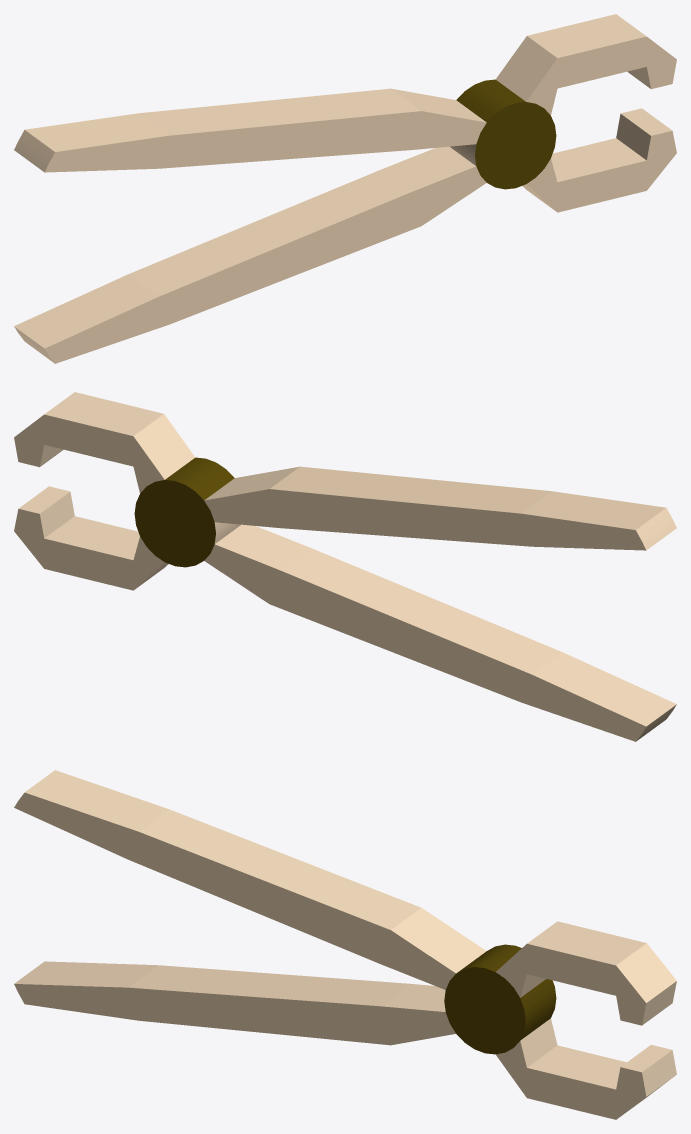
The model's file is forcepscursorv1.fbx.
3 renders of one model, top to bottom at view 1: azimuth 30°, elevation 25°; view 2: azimuth 150°, elevation 25°; view 3: azimuth 330°, elevation 25°, orthographic.
Visible parts, largest first — view 1: Forceps; view 2: Forceps; view 3: Forceps.
Part boxes in pixels (x1,y1,x2,y2): Forceps: [14, 14, 676, 363]; Forceps: [14, 392, 676, 741]; Forceps: [14, 770, 676, 1119].
Size of the model in its own units: 69.15 by 22.13 by 5.8.
